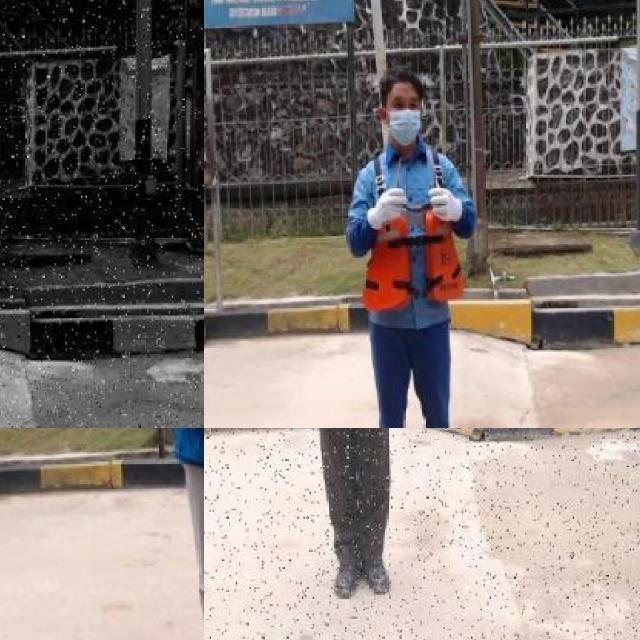apron: (365, 182, 410, 237), (424, 180, 464, 229)
